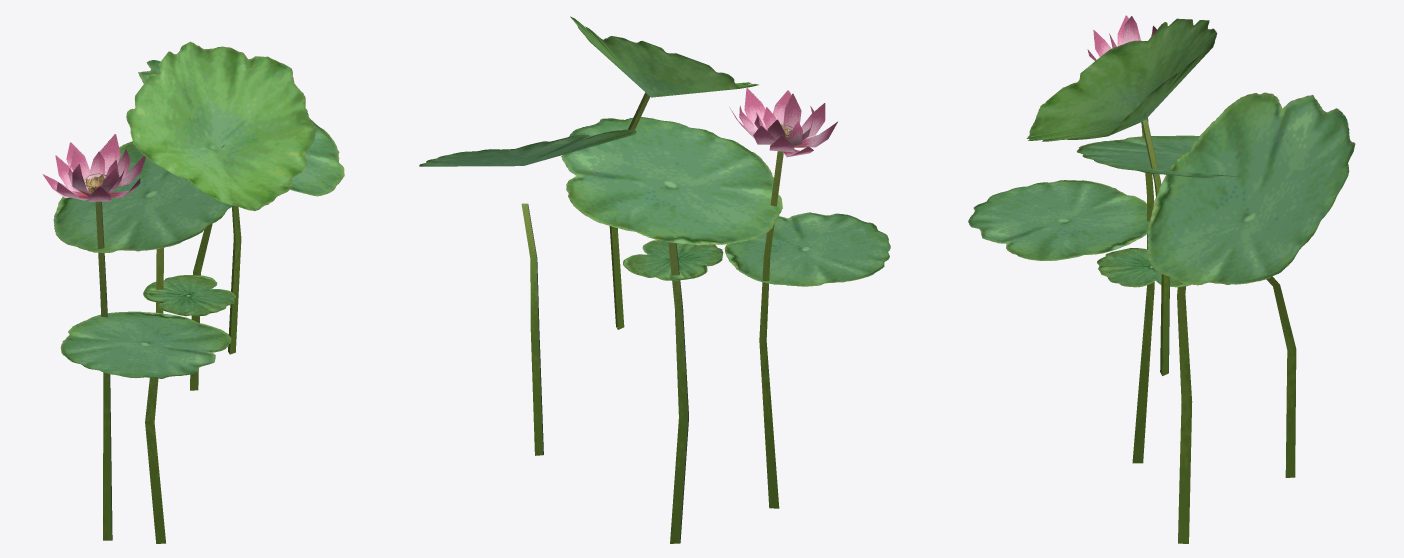
Rendered from ss_hehua_3.FBX.
3 renders of one model, left to right at view 1: azimuth 30°, elevation 25°; view 2: azimuth 150°, elevation 25°; view 3: azimuth 270°, elevation 25°, orthographic. The views are drawn at different scales.
Visible parts, largest first — view 1: ss_hehua_3; view 2: ss_hehua_3; view 3: ss_hehua_3.
Boxes of the visible parts, bbox=[...] form: ss_hehua_3: bbox=[42, 41, 344, 543]; ss_hehua_3: bbox=[419, 16, 890, 543]; ss_hehua_3: bbox=[968, 15, 1355, 543].
Size of the model in its own units: 15821 by 18865 by 14096.
